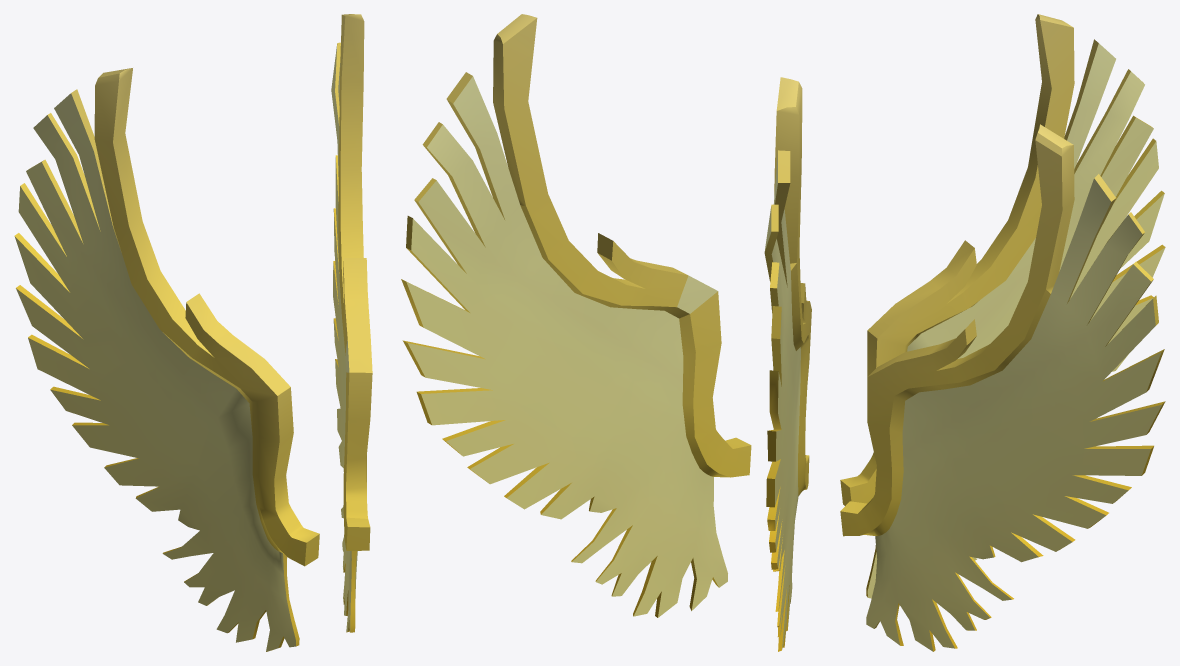
File: Alas.fbx
3 views of the same model, side by side, from view 1: azimuth 30°, elevation 25°; view 2: azimuth 150°, elevation 25°; view 3: azimuth 270°, elevation 25° (orthographic). The views are drawn at different scales.
Parts seen in each view (by area): view 1: Plane.001; view 2: Plane.001; view 3: Plane.001.
Part boxes in pixels (<box>): Plane.001: <box>14,14,372,651</box>; Plane.001: <box>401,14,811,651</box>; Plane.001: <box>840,14,1165,651</box>.
Bounding box in the file's own units: 228 × 365 × 194.
